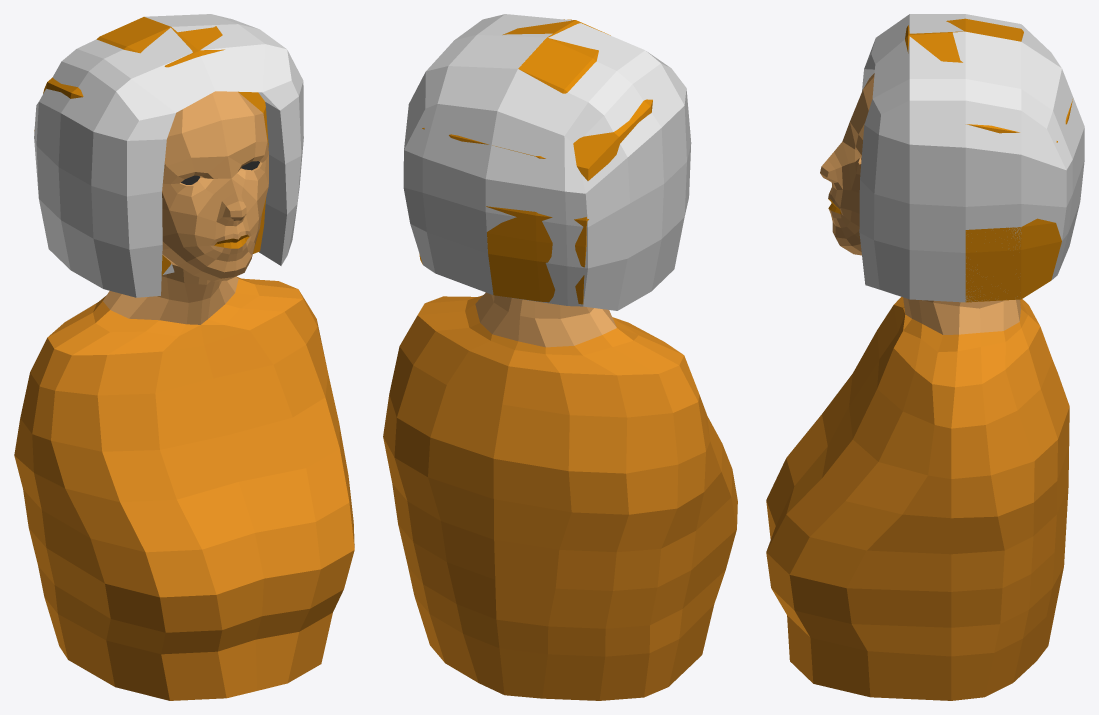
Rendered from V_Egito02_Esfinge.fbx.
3 views of the same model, side by side, from view 1: azimuth 30°, elevation 25°; view 2: azimuth 150°, elevation 25°; view 3: azimuth 270°, elevation 25° (orthographic). The views are drawn at different scales.
Parts seen in each view (by area): view 1: Cube, Cube.001; view 2: Cube, Cube.001; view 3: Cube, Cube.001.
Boxes of the visible parts, left/top/right/bottom form: Cube: left=14, top=17, right=354, bottom=700; Cube.001: left=34, top=14, right=303, bottom=297; Cube: left=383, top=19, right=737, bottom=700; Cube.001: left=403, top=14, right=691, bottom=310; Cube: left=766, top=18, right=1072, bottom=700; Cube.001: left=859, top=14, right=1084, bottom=302.
Bounding box in the file's own units: 81.85 × 161 × 75.69.
